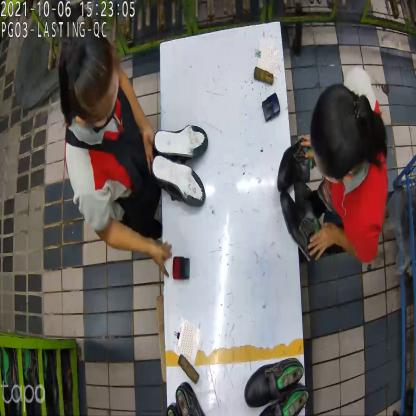shoes: (275, 136, 321, 262), (150, 122, 210, 210), (242, 359, 309, 415)
stamp: (261, 91, 280, 124), (173, 253, 191, 282)
